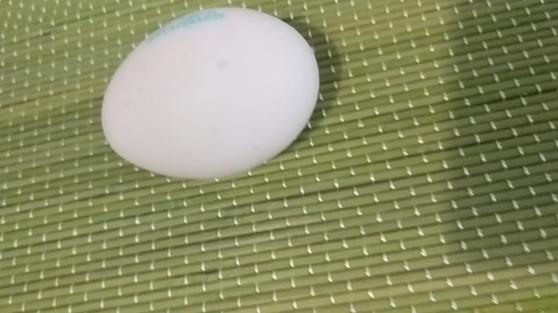egg: (84, 9, 329, 177)
